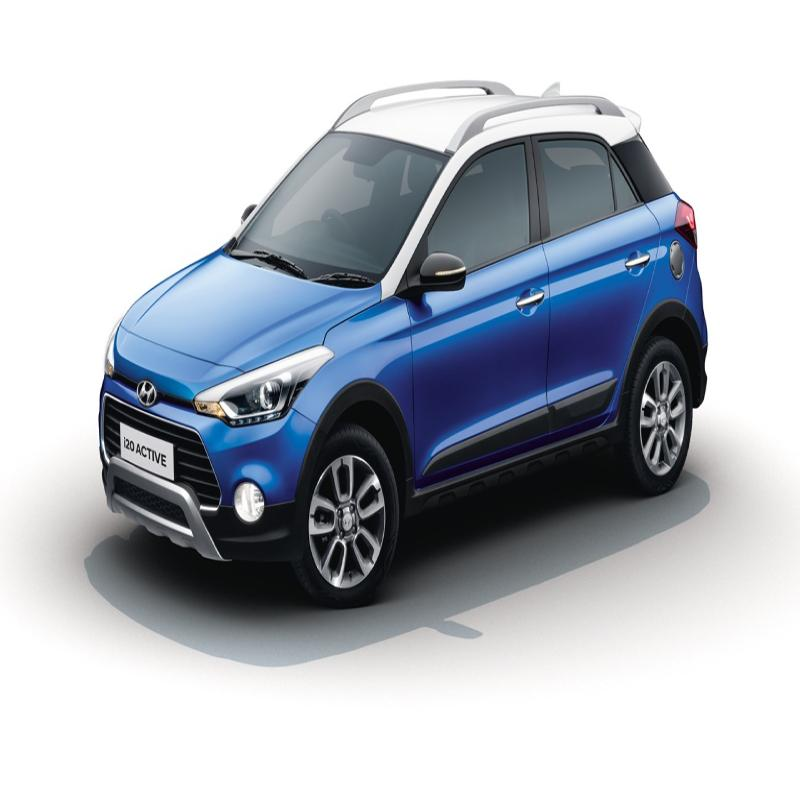car: (92, 107, 694, 584)
